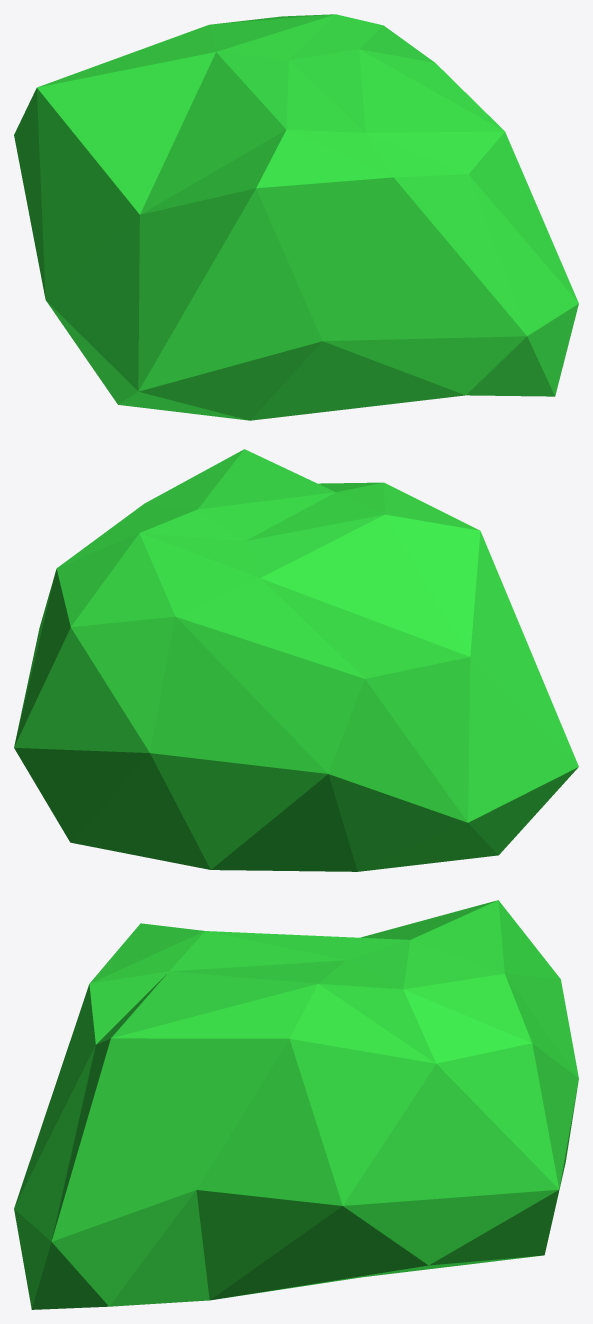
Rendered from bush.glb.
The picture shows the model from 3 angles, top to bottom: view 1: azimuth 30°, elevation 25°; view 2: azimuth 150°, elevation 25°; view 3: azimuth 270°, elevation 25°; orthographic projection. The views are drawn at different scales.
Visible parts, largest first — view 1: Object_14; view 2: Object_14; view 3: Object_14.
Part boxes in pixels (x1,y1,x2,y2): Object_14: (14, 14, 578, 420); Object_14: (14, 449, 578, 871); Object_14: (14, 900, 578, 1309).
Size of the model in its own units: 5.85 by 3.72 by 6.14.
